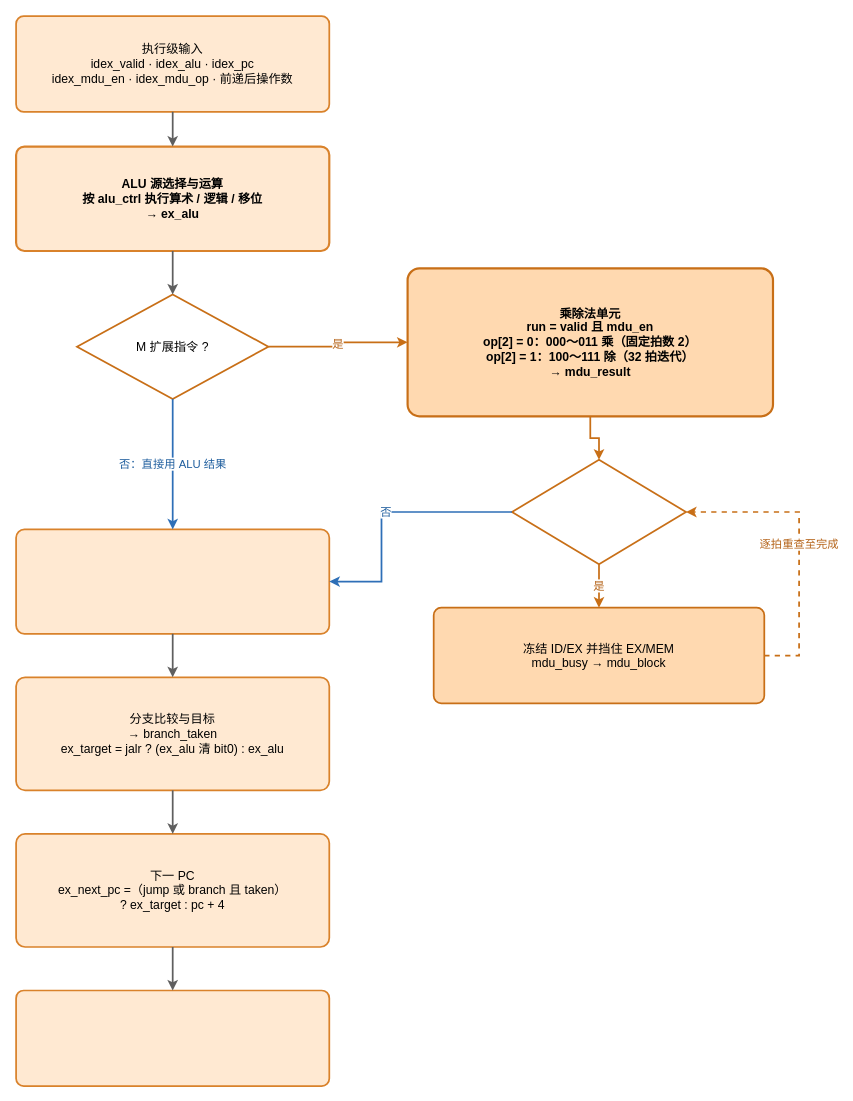
The diagram is 853 pixels wide and 1101 high, and some of its shapes have lost their labels. Each missing label, with the box of its shape:
写入 EX/MEM mem_done 且未 mdu_block 时前进 mdu_ack 同拍释放乘除单元: (15, 989, 330, 1087)
结果选择 result = mdu_en ? mdu_result : ex_alu: (15, 528, 330, 634)
除法未完成 ?: (511, 458, 686, 565)
